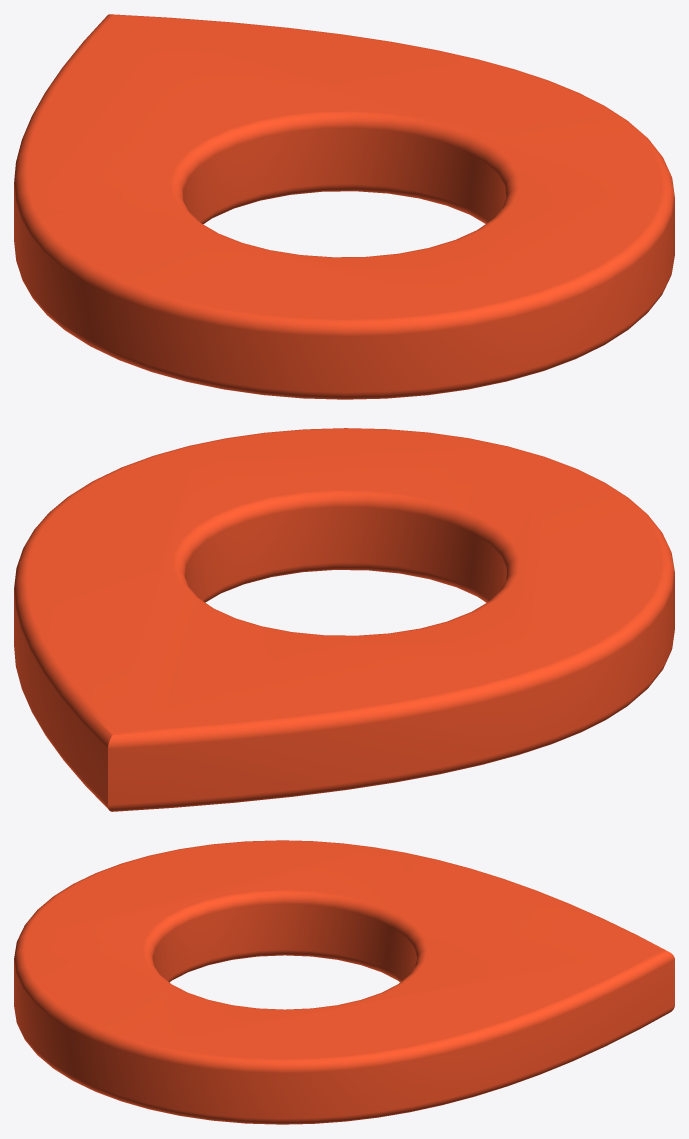
The model's file is poi_red1.glb.
3 views of the same model, one above another, from view 1: azimuth 30°, elevation 25°; view 2: azimuth 150°, elevation 25°; view 3: azimuth 270°, elevation 25° (orthographic). The views are drawn at different scales.
Parts seen in each view (by area): view 1: 形状; view 2: 形状; view 3: 形状.
Boxes of the visible parts, bbox=[...] form: 形状: bbox=[14, 14, 674, 399]; 形状: bbox=[14, 428, 674, 811]; 形状: bbox=[14, 840, 674, 1124].
Bounding box in the file's own units: 2.53 × 0.3358 × 3.11.
